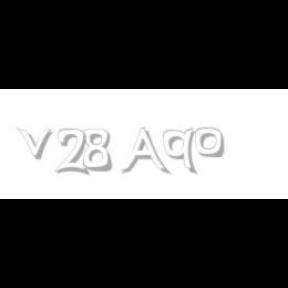2: (54, 128, 88, 176)
8: (83, 128, 112, 172)
A: (120, 128, 168, 176)
o: (194, 128, 224, 158)
q: (163, 128, 199, 176)
v: (17, 128, 57, 160)
